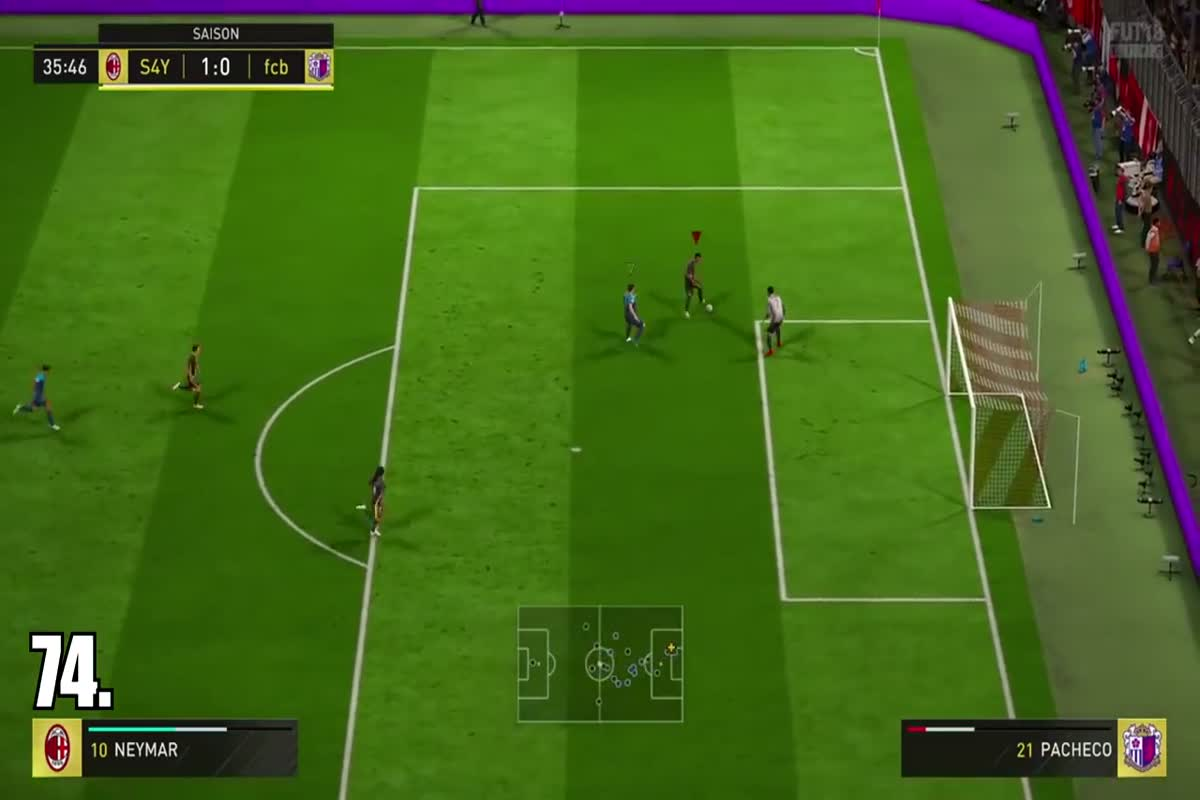ball: (697, 297, 721, 318)
